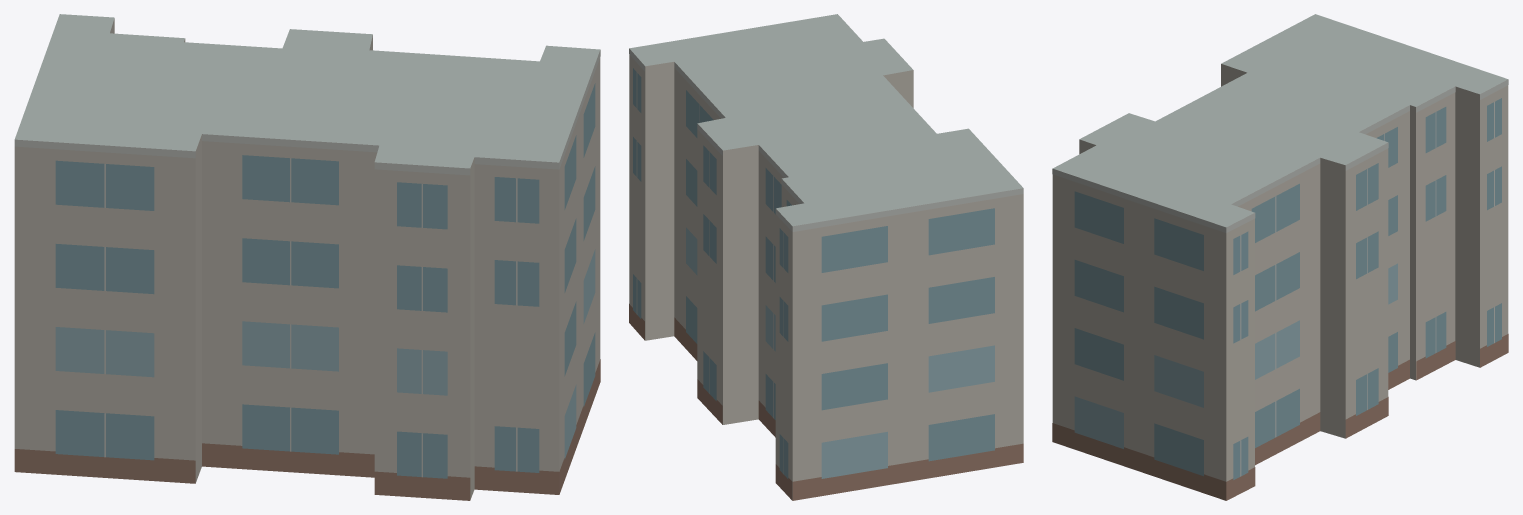
The model's file is survey-upis-32704590.glb.
3 renders of one model, left to right at view 1: azimuth 30°, elevation 25°; view 2: azimuth 150°, elevation 25°; view 3: azimuth 270°, elevation 25°, orthographic. The views are drawn at different scales.
Parts seen in each view (by area): view 1: survey-upis-32704590.tmp; view 2: survey-upis-32704590.tmp; view 3: survey-upis-32704590.tmp.
Part boxes in pixels (x1=…): survey-upis-32704590.tmp: x1=14, y1=14, x2=600, y2=500; survey-upis-32704590.tmp: x1=629, y1=14, x2=1023, y2=500; survey-upis-32704590.tmp: x1=1052, y1=14, x2=1508, y2=500.
Size of the model in its own units: 19.43 by 11.6 by 17.54.
